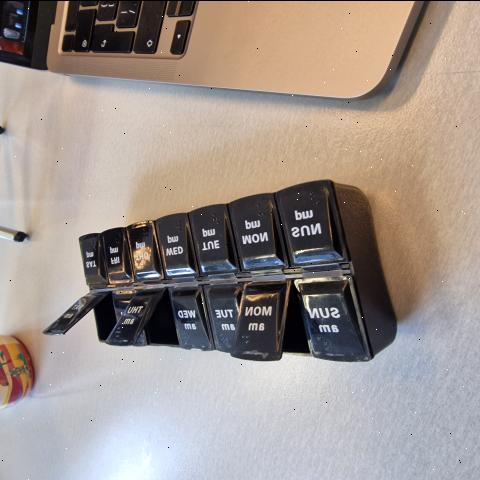Open: (105, 289, 177, 346), (41, 291, 117, 342), (274, 281, 309, 359)
